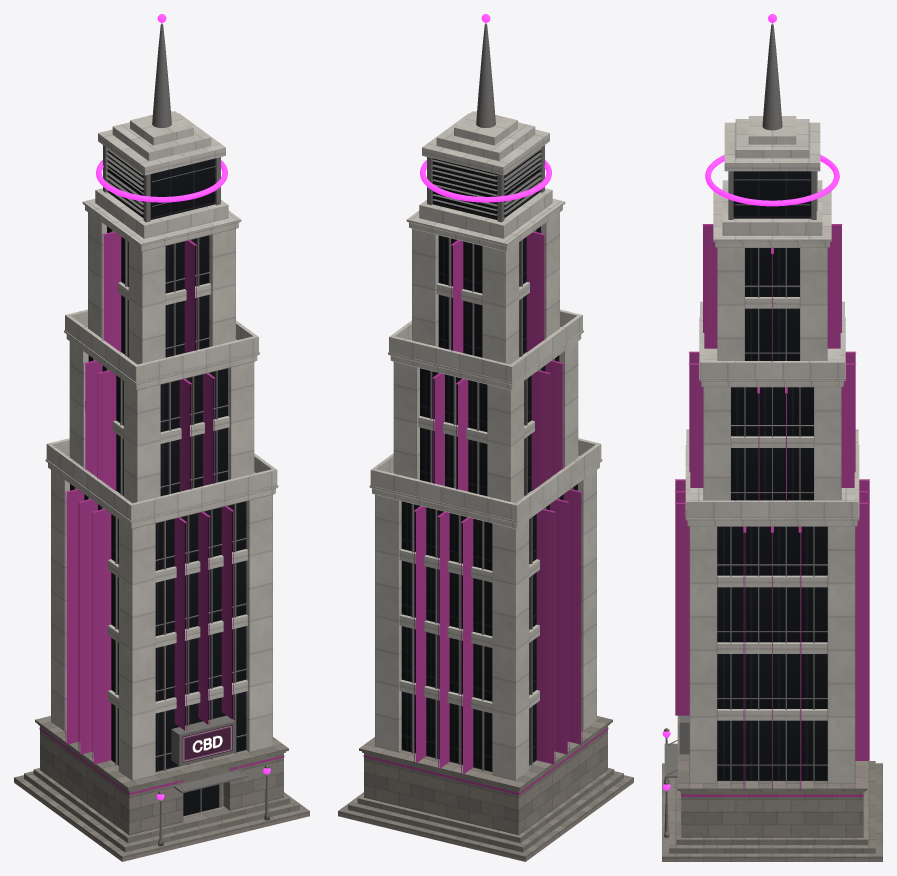
File: s17-curable-blockchain-dao.glb
The picture shows the model from 3 angles, left to right: view 1: azimuth 30°, elevation 25°; view 2: azimuth 150°, elevation 25°; view 3: azimuth 270°, elevation 25°; orthographic projection. The views are drawn at different scales.
Visible parts, largest first — view 1: Landmark · Curable.Blockchain DAO (Series 17); view 2: Landmark · Curable.Blockchain DAO (Series 17); view 3: Landmark · Curable.Blockchain DAO (Series 17).
Part boxes in pixels (x1,y1,x2,y2): Landmark · Curable.Blockchain DAO (Series 17): (14,14,309,861); Landmark · Curable.Blockchain DAO (Series 17): (338,14,633,861); Landmark · Curable.Blockchain DAO (Series 17): (662,14,882,861).
Bounding box in the file's own units: 12 × 48 × 12.
7 materials, 4 textured.
